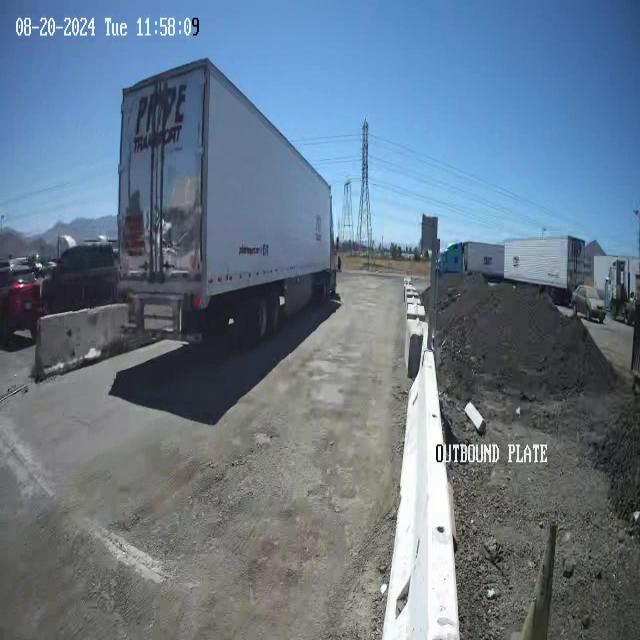CONTAINER: (123, 66, 333, 280)
